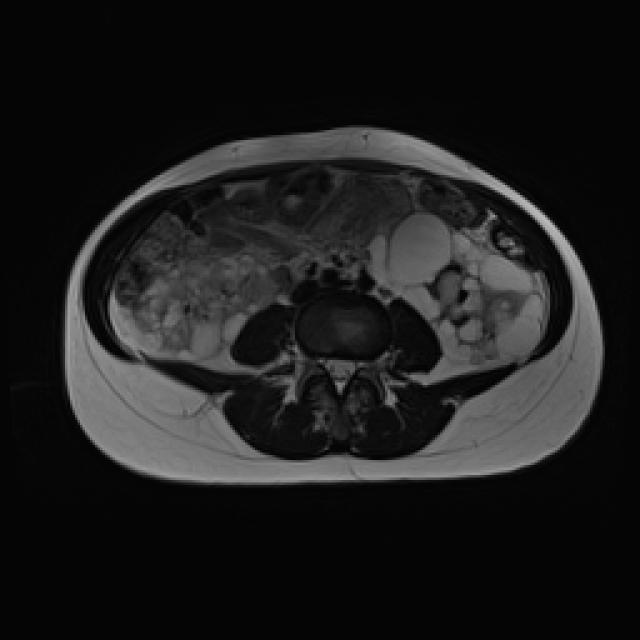sag: (131, 251, 280, 359)
sol: (366, 213, 545, 365)
